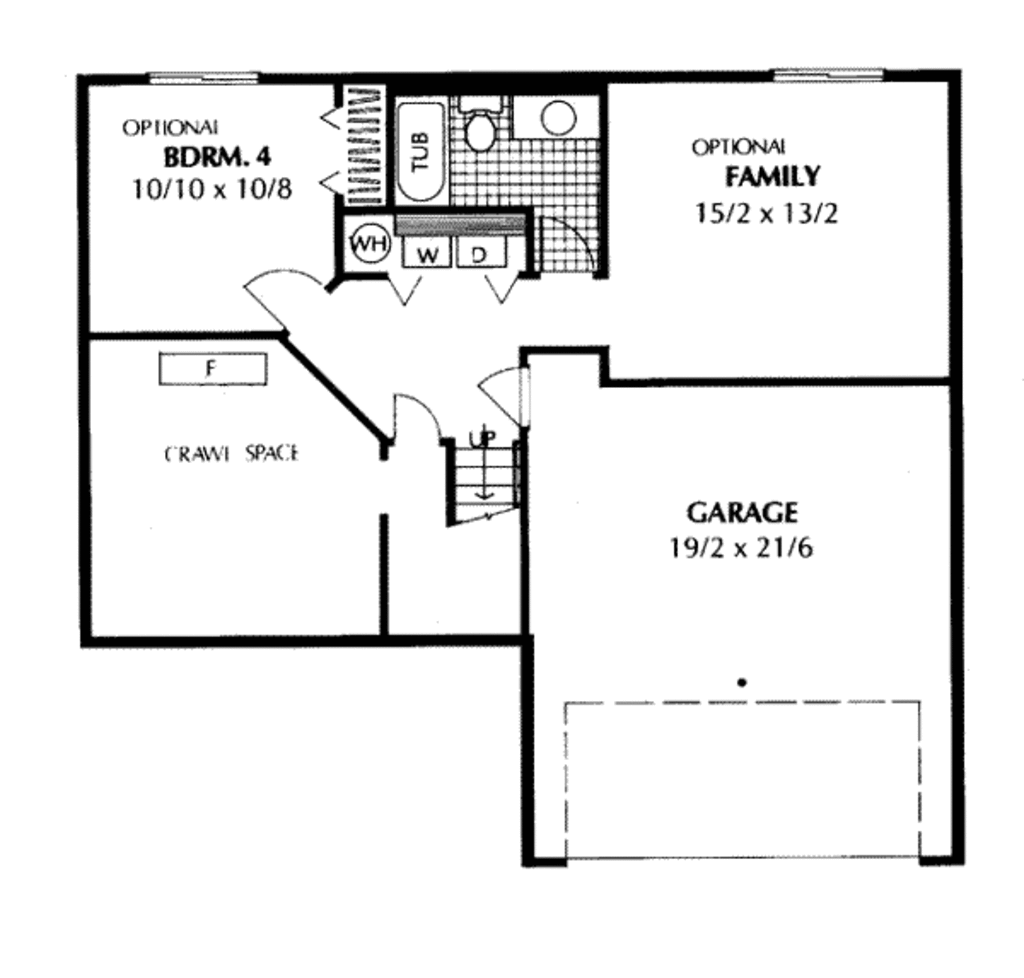door: (224, 267, 323, 336), (375, 367, 444, 446), (473, 369, 542, 433), (538, 206, 596, 274)
large_sink: (456, 84, 506, 160)
small_sink: (518, 93, 597, 145)
stairs: (442, 433, 521, 539)
tub: (400, 94, 457, 206)
window: (150, 67, 261, 88), (772, 64, 884, 81)
